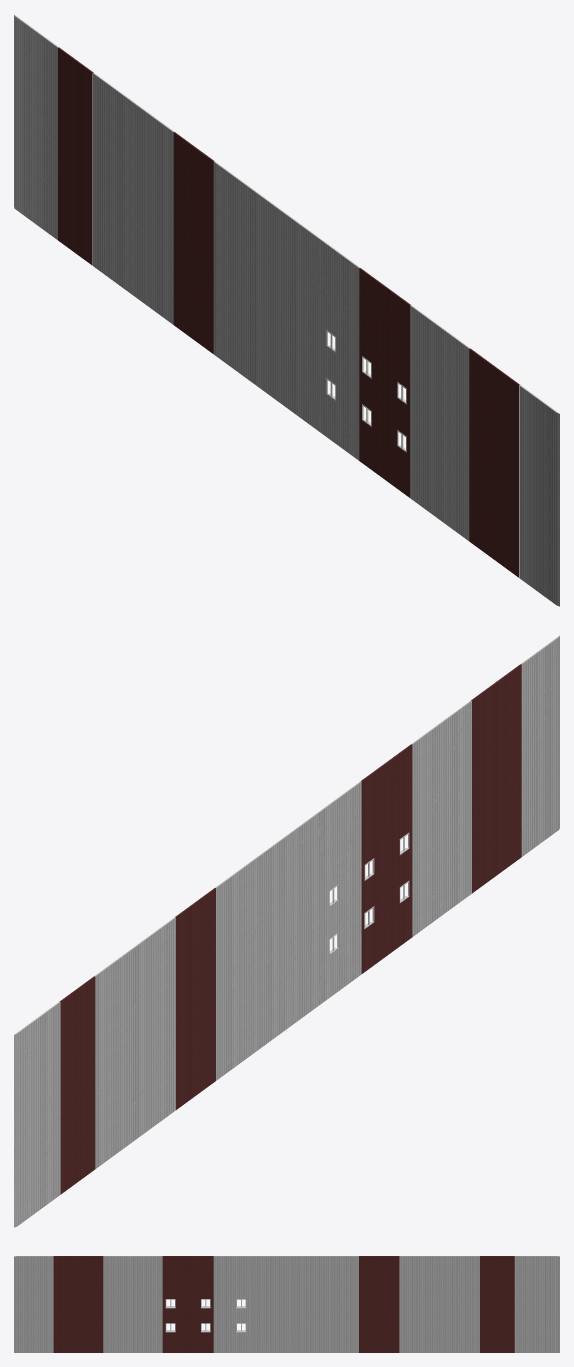
Rendered from Right.glb.
The picture shows the model from 3 angles, top to bottom: view 1: azimuth 30°, elevation 25°; view 2: azimuth 150°, elevation 25°; view 3: azimuth 270°, elevation 25°; orthographic projection. The views are drawn at different scales.
Visible parts, largest first — view 1: Wall_Right, Windows; view 2: Wall_Right, Windows; view 3: Wall_Right, Windows.
Part boxes in pixels (x1=…): Wall_Right: x1=14, y1=14, x2=559, y2=606; Windows: x1=326, y1=330, x2=406, y2=452; Wall_Right: x1=14, y1=635, x2=559, y2=1227; Windows: x1=329, y1=832, x2=409, y2=954; Wall_Right: x1=14, y1=1256, x2=559, y2=1352; Windows: x1=165, y1=1299, x2=246, y2=1332.
Size of the model in its own units: 2.63 by 120 by 616.
3 materials, 2 textured.
